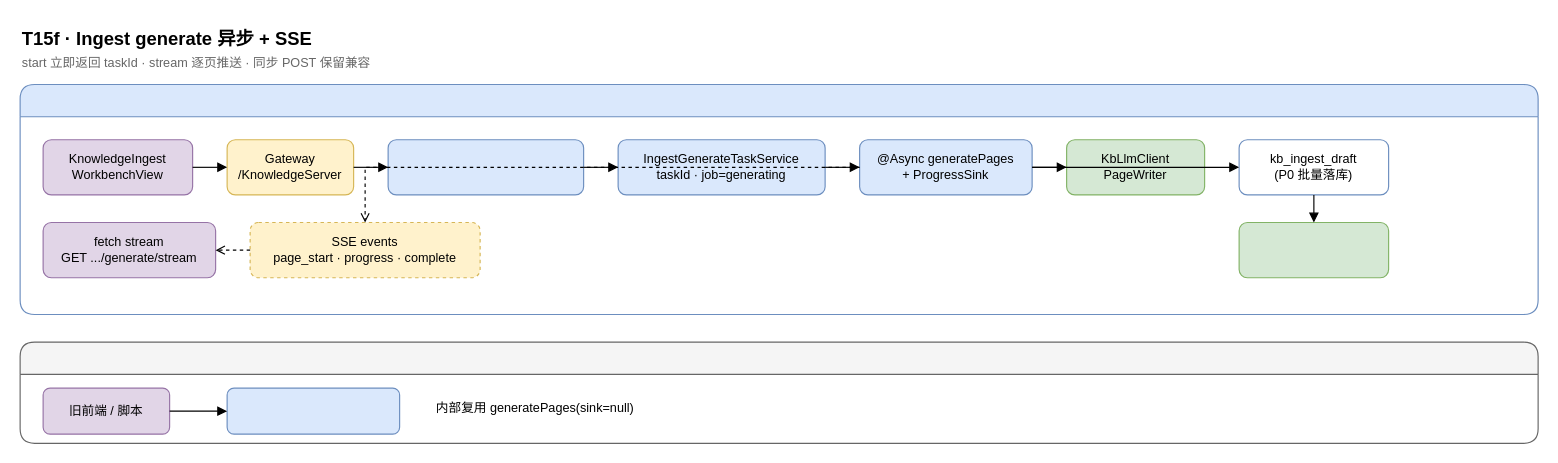
Image size: 1558x463. Some labels were removed from this diagram. Here are the shapes that lost their labels. From the top down, the box of each, then its label:
(387, 139, 584, 195): KbIngestController POST .../generate/start
(19, 83, 1538, 315): 主路径（推荐）
(1238, 221, 1389, 278): job.status → reviewing
(226, 387, 400, 434): POST .../generate (同步 300s)
(19, 341, 1538, 443): 兼容路径
